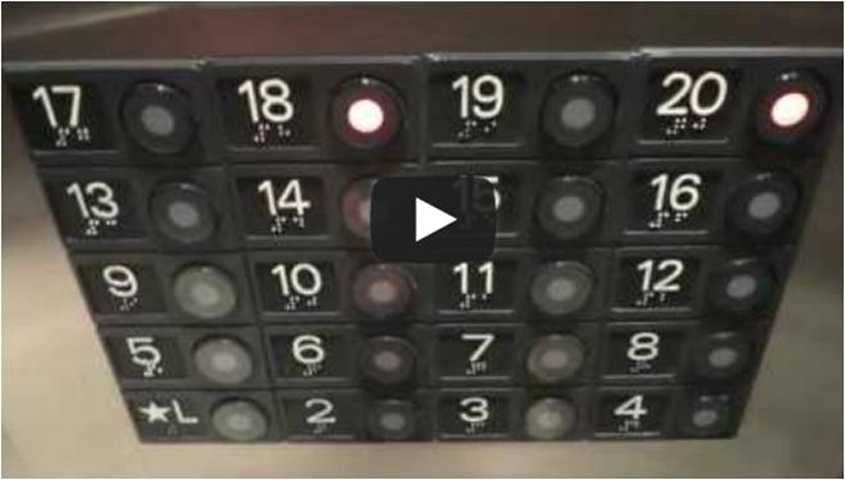10: (244, 243, 435, 325)
11: (430, 242, 613, 324)
12: (602, 242, 796, 323)
13: (29, 164, 242, 255)
14: (220, 158, 442, 255)
15: (423, 157, 625, 254)
16: (627, 157, 825, 254)
17: (2, 54, 227, 167)
18: (211, 51, 435, 168)
19: (425, 50, 640, 163)
2: (270, 381, 436, 449)
20: (632, 45, 842, 160)
3: (427, 381, 604, 449)
4: (590, 382, 758, 448)
5: (92, 318, 269, 394)
6: (254, 318, 436, 391)
7: (427, 317, 612, 390)
8: (592, 317, 775, 387)
9: (64, 244, 260, 328)
L: (119, 381, 271, 450)
